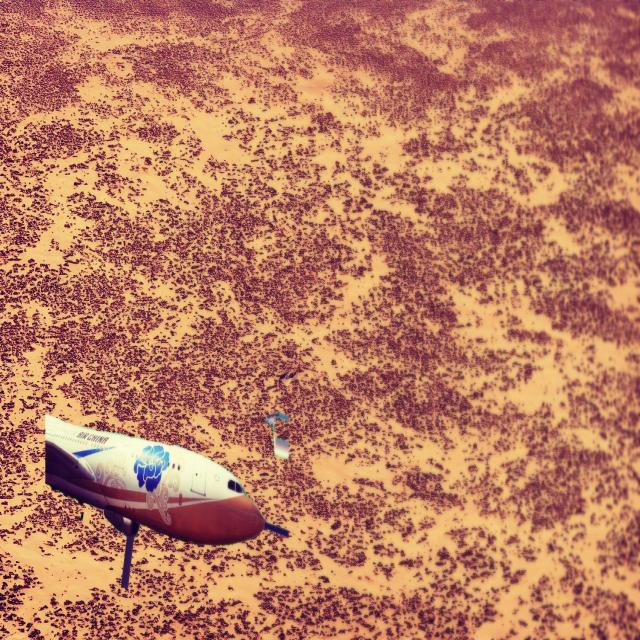airplane: (44, 412, 290, 589)
